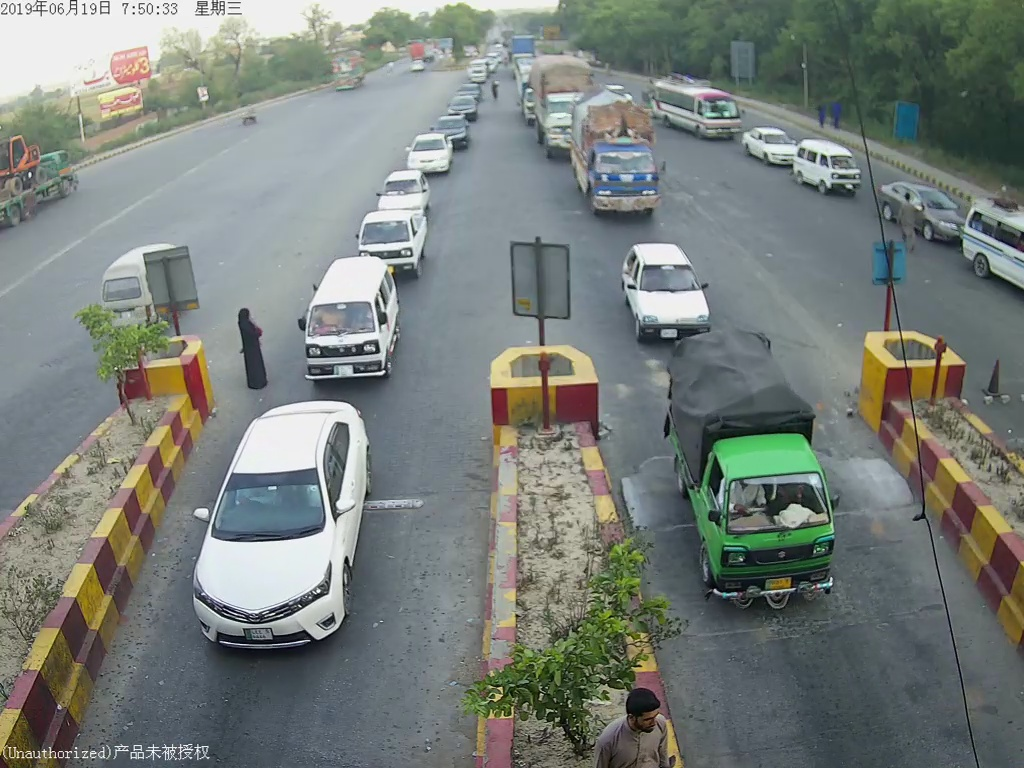Cat-1: (660, 329, 852, 601), (188, 394, 379, 646), (301, 255, 401, 386), (618, 238, 714, 341), (353, 201, 431, 273), (794, 136, 861, 197), (404, 132, 459, 175)
Cat-2: (567, 89, 669, 220)
